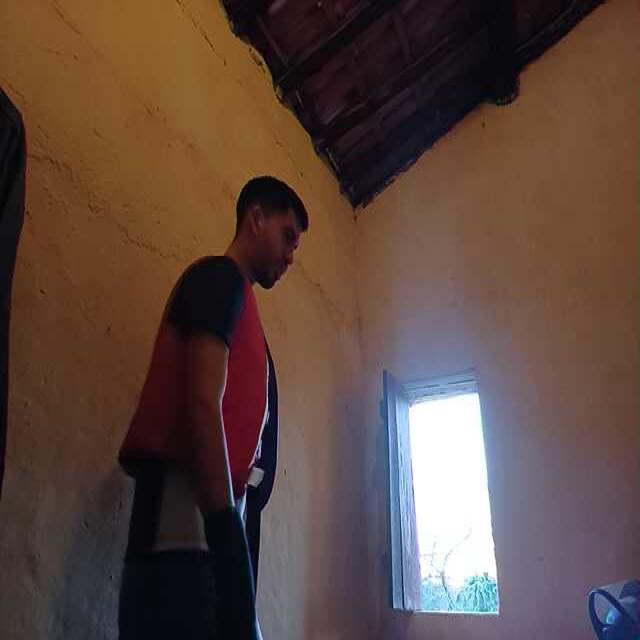colete: (132, 268, 269, 488)
pessoa: (142, 172, 310, 640)
